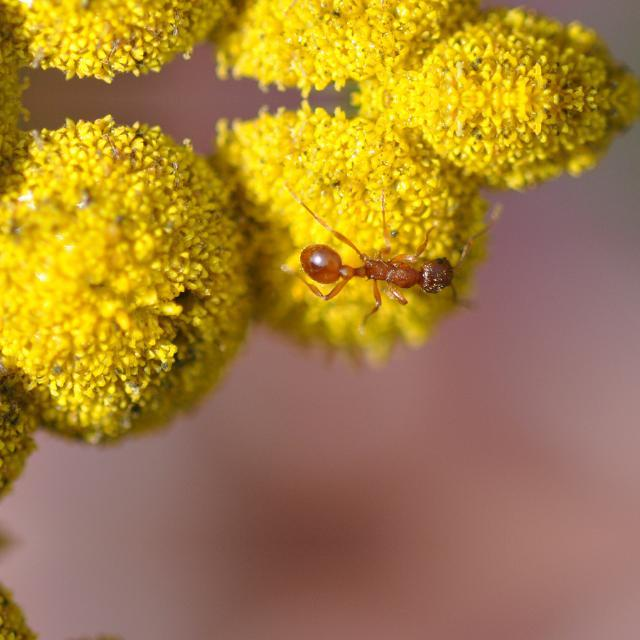Myrmica: (280, 225, 476, 315)
